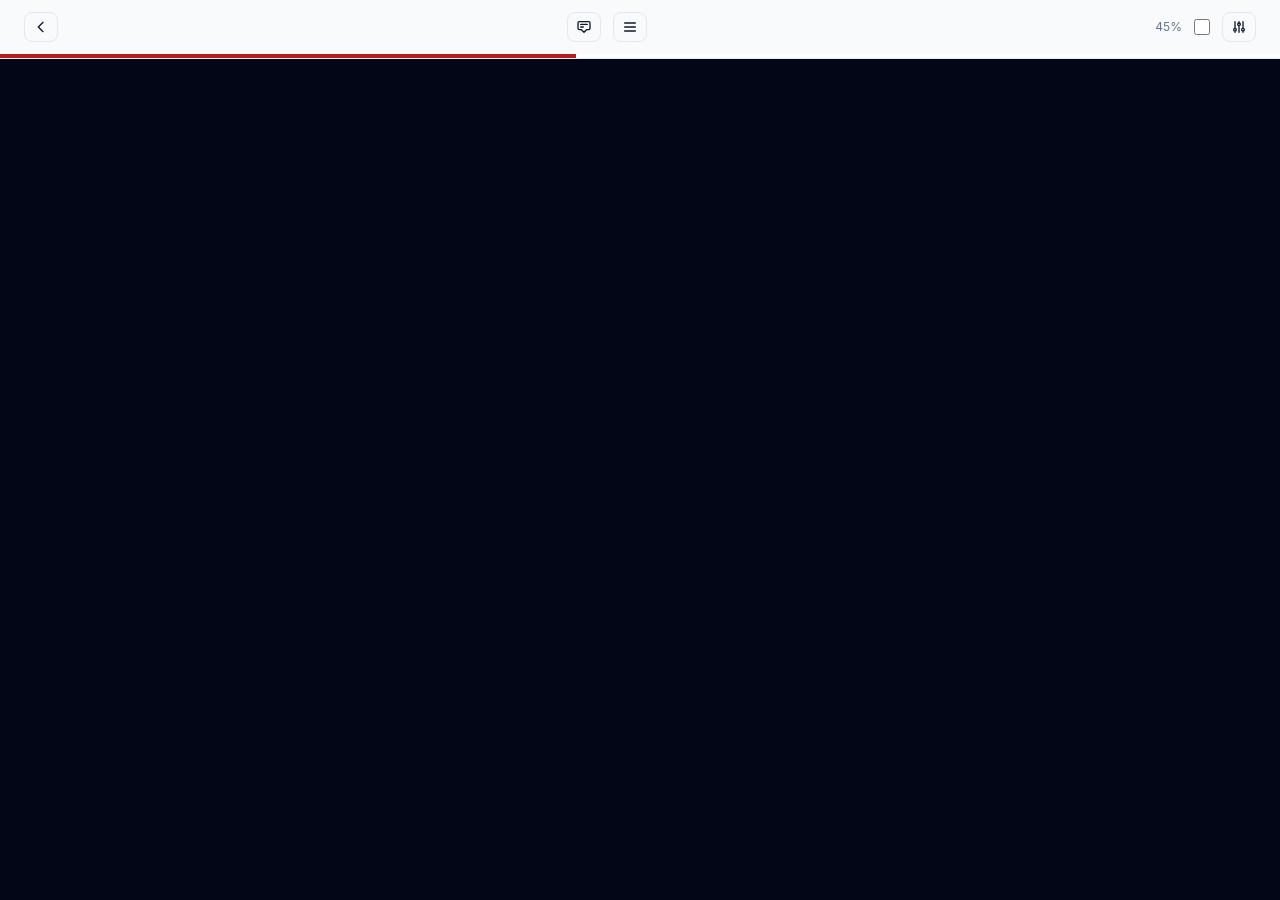
Test case: ReaderToolbar › highlights current section in menu
Step 1. Click the button named "Open section menu" → (630, 27), box [613,12,647,42]
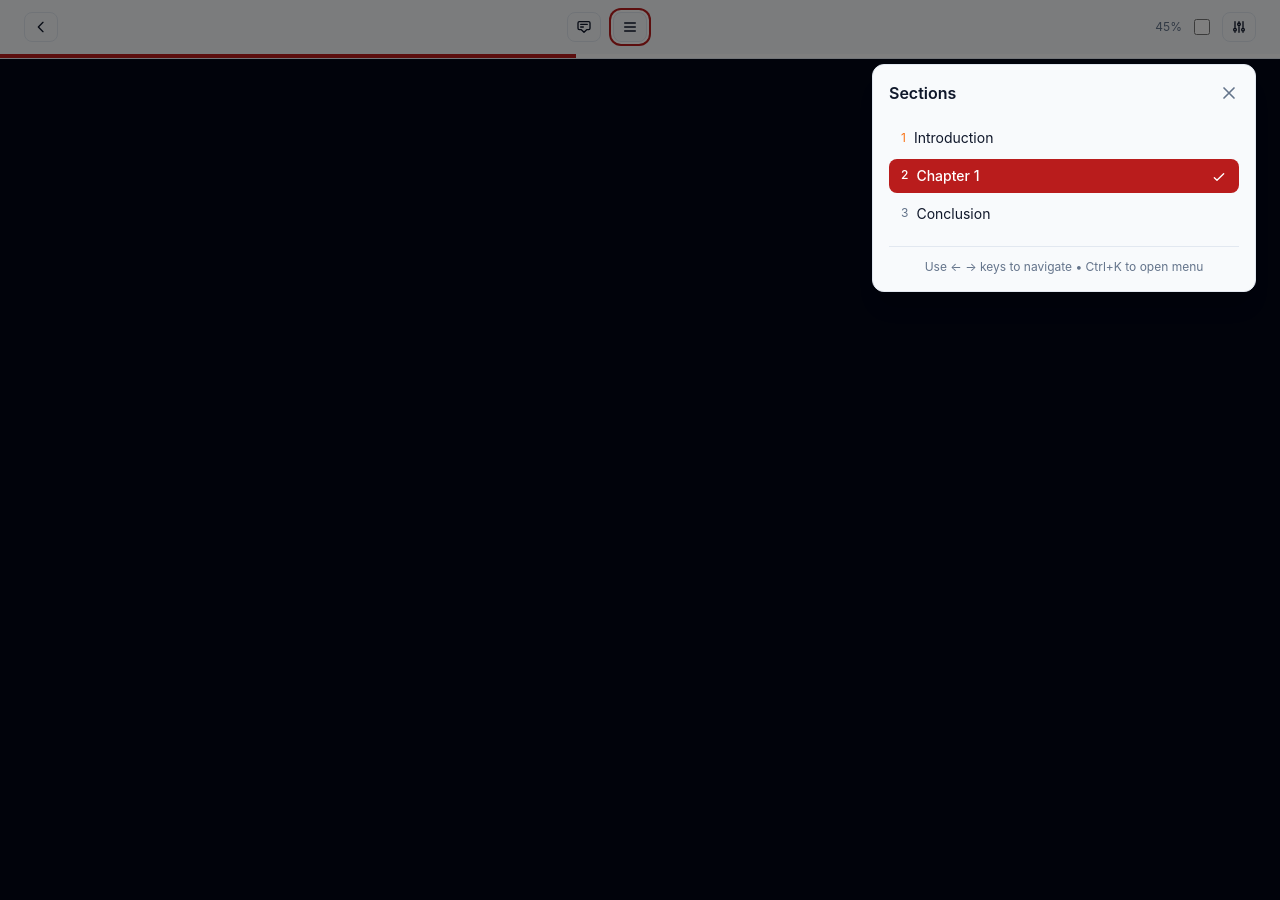
Check: the dialog shows "Chapter 1", box [889,158,1239,192]
Check: the dialog shows "2", box [889,158,1239,192]
